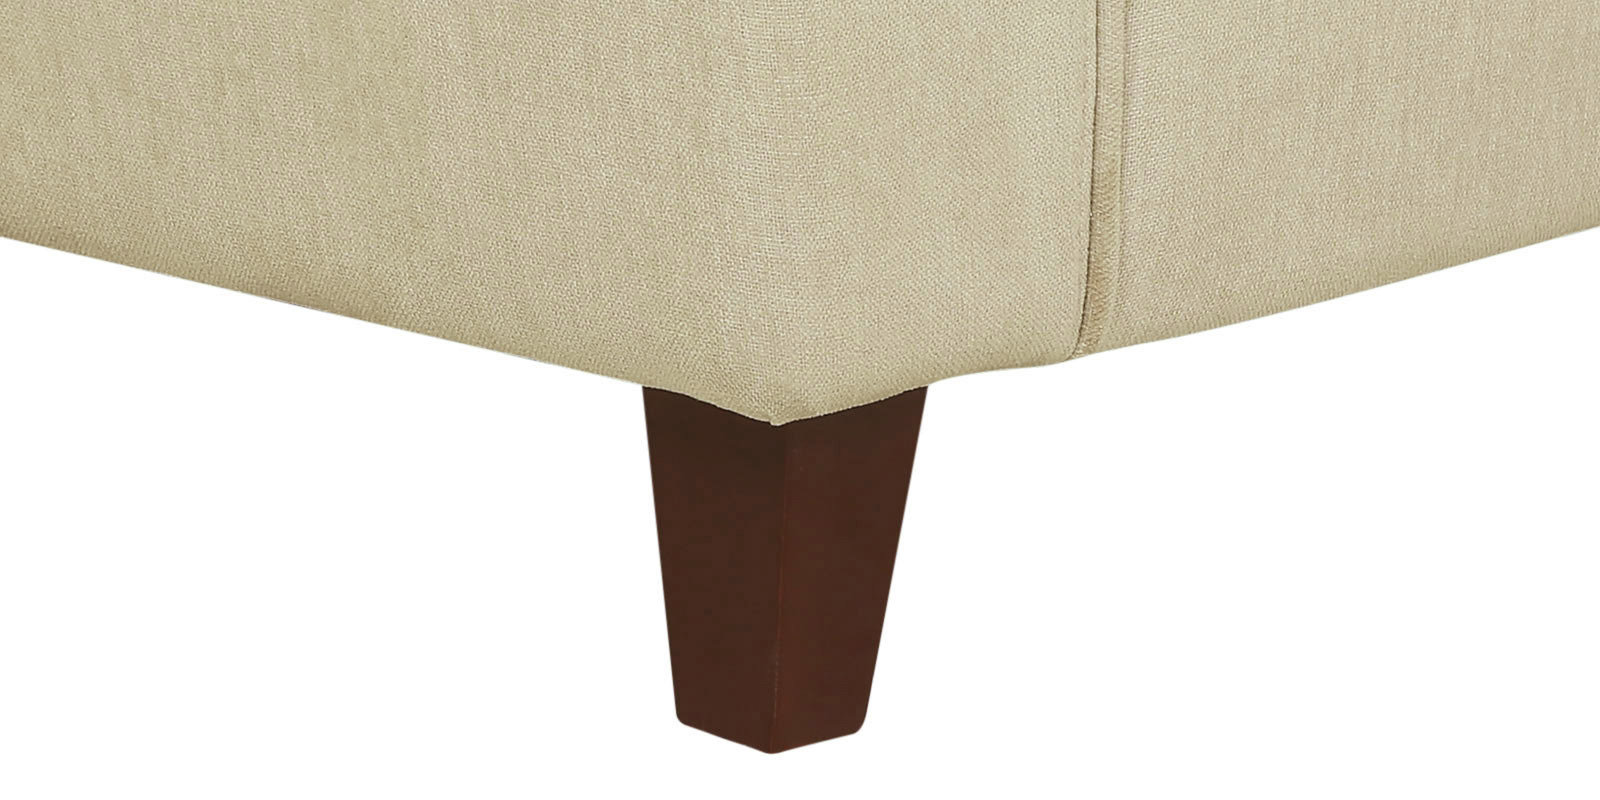Miranda Three Seater Sofa in Beige Colour by CasaCraft: (3, 5, 1582, 755)
